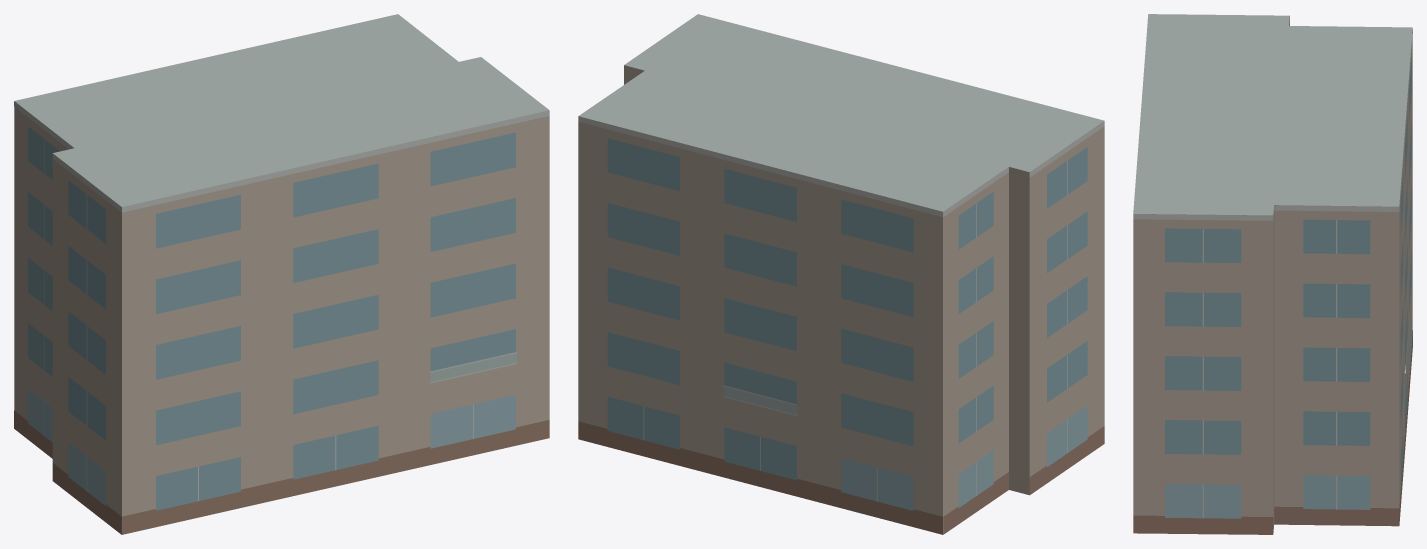
Rendered from survey-upis-33018813.glb.
3 views of the same model, side by side, from view 1: azimuth 30°, elevation 25°; view 2: azimuth 150°, elevation 25°; view 3: azimuth 270°, elevation 25° (orthographic). The views are drawn at different scales.
Visible parts, largest first — view 1: survey-upis-33018813.tmp; view 2: survey-upis-33018813.tmp; view 3: survey-upis-33018813.tmp.
Part boxes in pixels (bbox=[...]): survey-upis-33018813.tmp: bbox=[14, 14, 549, 534]; survey-upis-33018813.tmp: bbox=[578, 14, 1104, 534]; survey-upis-33018813.tmp: bbox=[1133, 14, 1412, 534].
Size of the model in its own units: 19.48 by 14.4 by 11.43.
